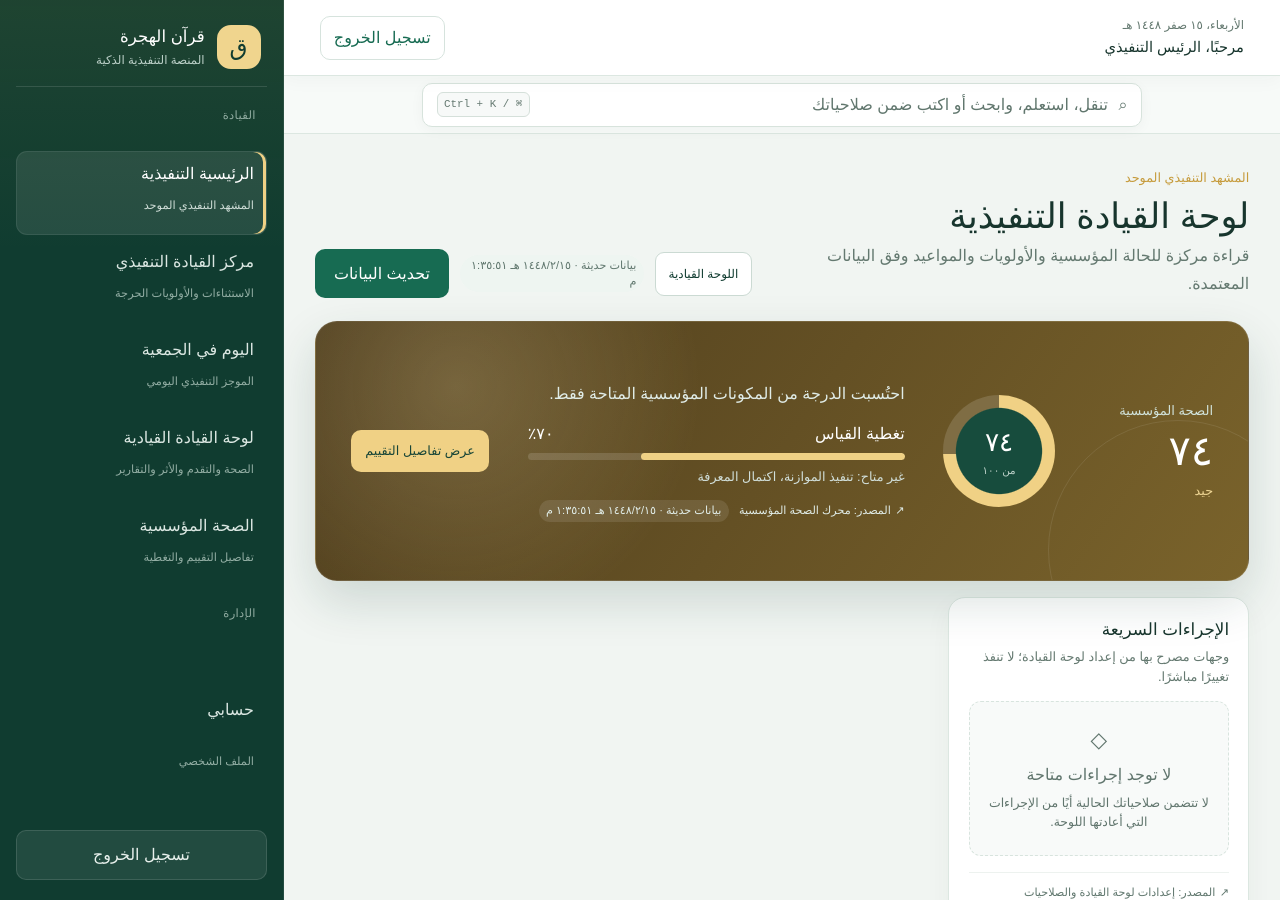
it: Sprint 1A executive foundation and home dashboard › keeps the last successful snapshot and marks it when a manual refresh fails
Check: the text "٧٤" is shown 2 times, box [1168,427,1213,474]; [982,423,1016,463]
Click the button "تحديث البيانات" at (382, 274), box [315,249,449,298]
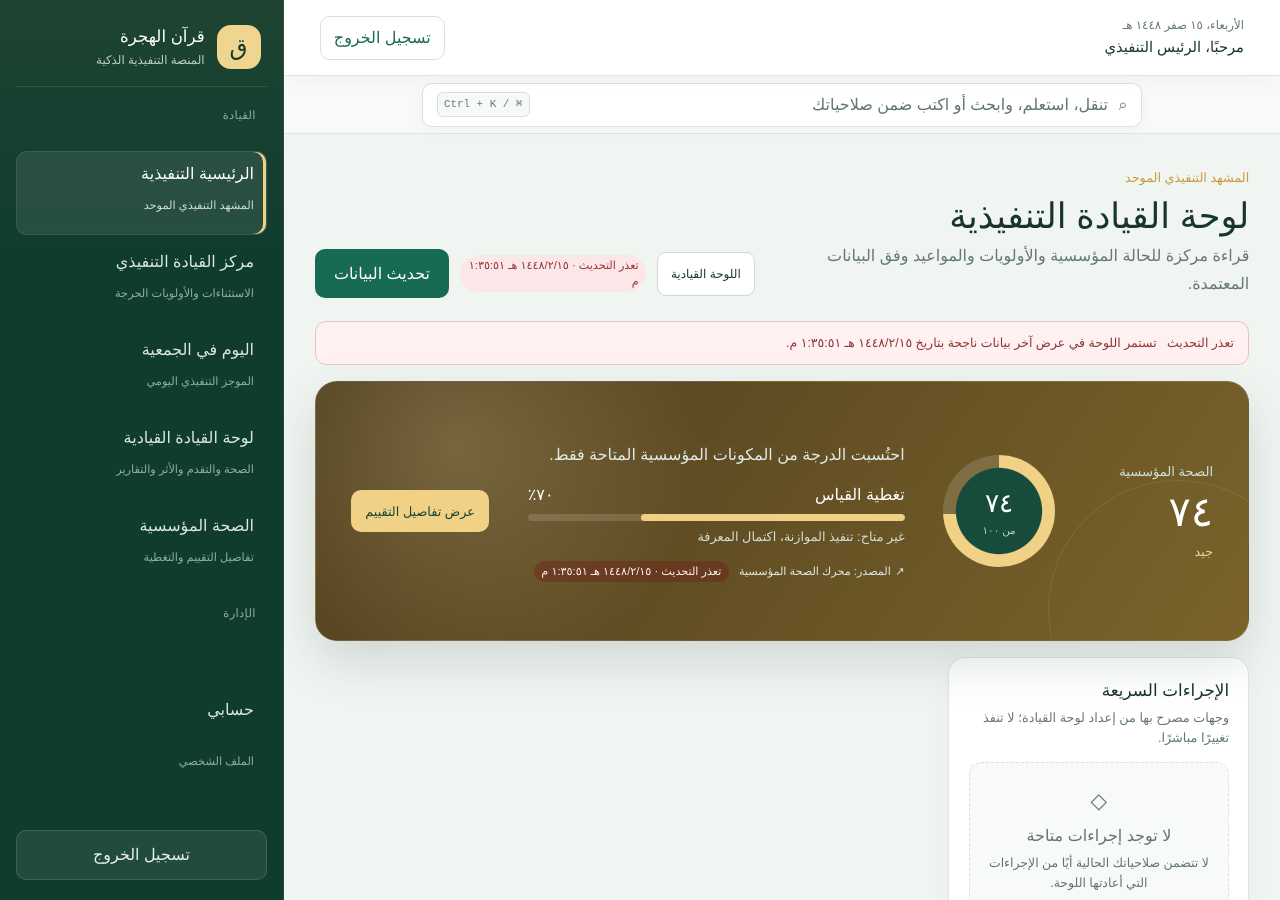
Check: the text "تعذر التحديث" is shown, box [1167,334,1234,352]
Check: the text "٧٤" is shown 2 times, box [1168,488,1213,535]; [982,484,1016,523]
